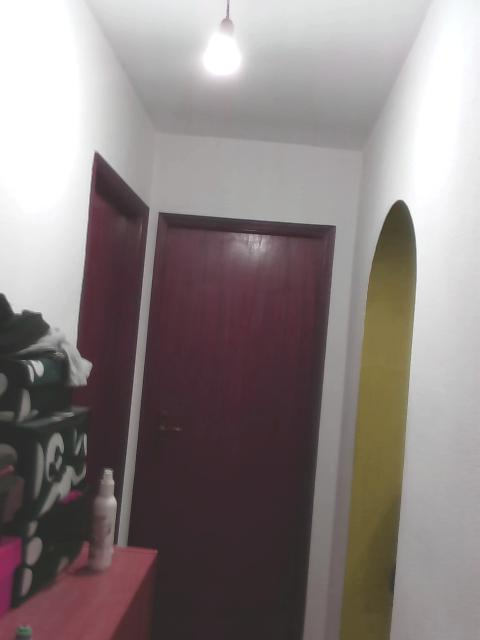closed_door: (127, 207, 335, 638)
